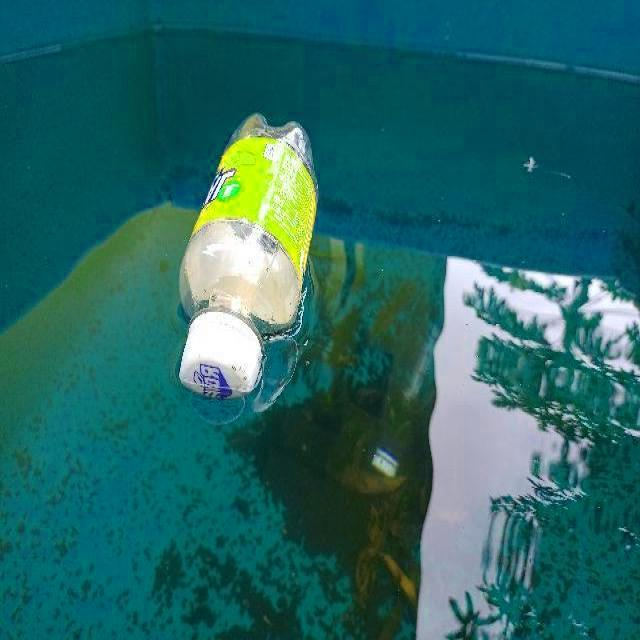Plastic: (177, 109, 322, 402)
